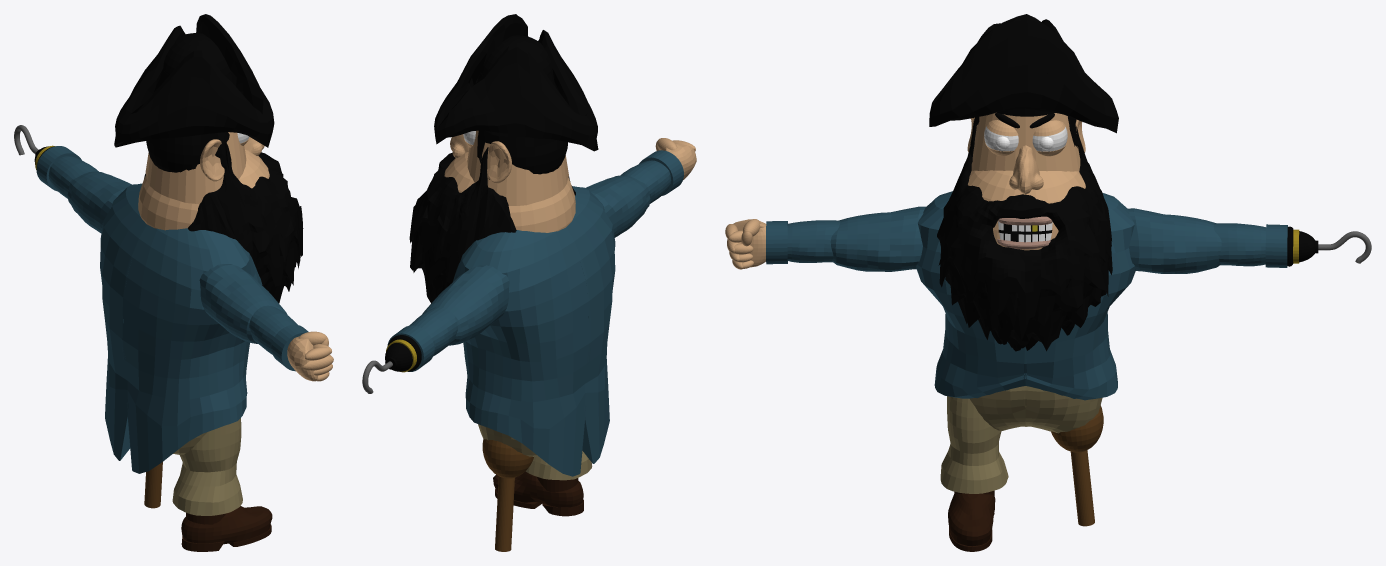
Rendered from Panglang The Pirate.fbx.
3 renders of one model, left to right at view 1: azimuth 30°, elevation 25°; view 2: azimuth 150°, elevation 25°; view 3: azimuth 270°, elevation 25°, orthographic. The views are drawn at different scales.
Parts seen in each view (by area): view 1: Torso, Torus, Beard, Head, Pants, Right, Arm, Upper Right, Boot, Arm, Upper Left, Head Hair, Arm, Forearm Right, Arm, Forearm Left, Head Wrap 1 (+3 smaller); view 2: Torso, Torus, Beard, Head, Arm, Upper Left, Peg Leg, Head Hair, Arm, Upper Right, Arm, Forearm Left, Arm, Forearm Right, Boot, Head Wrap 1 (+6 smaller); view 3: Beard, Torso, Torus, Head, Arm, Upper Left, Arm, Upper Right, Pants, Right, Groin, Arm, Forearm Left, Arm, Forearm Right, Peg Leg, Boot (+2 smaller).
Boxes of the visible parts, <box> form: Torso: <box>100,183,262,473</box>; Torus: <box>114,14,274,147</box>; Beard: <box>144,142,303,303</box>; Head: <box>138,132,269,230</box>; Pants, Right: <box>172,418,242,515</box>; Arm, Upper Right: <box>199,264,287,343</box>; Boot: <box>181,506,272,544</box>; Arm, Upper Left: <box>67,171,131,232</box>; Head Hair: <box>146,89,229,172</box>; Arm, Forearm Right: <box>249,305,308,371</box>; Arm, Forearm Left: <box>36,146,98,198</box>; Head Wrap 1: <box>162,33,231,76</box>; Torso: <box>453,186,615,476</box>; Torus: <box>434,14,598,151</box>; Beard: <box>409,147,575,303</box>; Head: <box>444,130,575,232</box>; Arm, Upper Left: <box>422,265,509,345</box>; Peg Leg: <box>482,438,533,551</box>; Head Hair: <box>477,130,567,179</box>; Arm, Upper Right: <box>586,175,650,237</box>; Arm, Forearm Left: <box>387,307,457,371</box>; Arm, Forearm Right: <box>620,150,683,203</box>; Boot: <box>493,471,583,507</box>; Head Wrap 1: <box>480,35,552,75</box>; Beard: <box>937,123,1112,351</box>; Torso: <box>916,191,1135,400</box>; Torus: <box>929,14,1118,133</box>; Head: <box>968,112,1085,250</box>; Arm, Upper Left: <box>1127,208,1221,273</box>; Arm, Upper Right: <box>830,206,925,271</box>; Pants, Right: <box>940,396,1008,493</box>; Groin: <box>970,386,1102,433</box>; Arm, Forearm Left: <box>1213,223,1287,267</box>; Arm, Forearm Right: <box>766,220,840,264</box>; Peg Leg: <box>1051,405,1103,526</box>; Boot: <box>948,493,995,546</box>.
Size of the model in its own units: 114 by 311 by 350.
